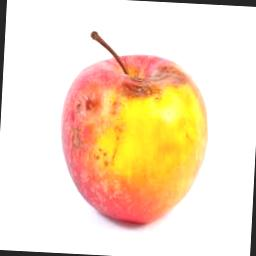Apple Overripe: (53, 28, 215, 234)
